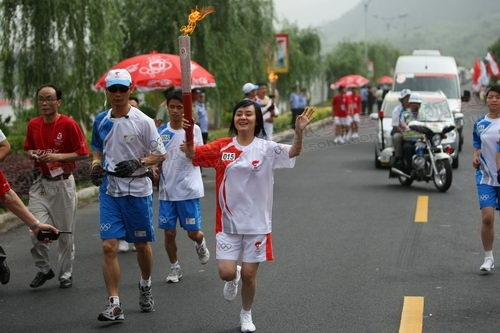fire: (181, 4, 212, 34), (265, 65, 283, 82)
